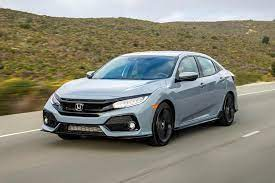Honda: (42, 50, 240, 146)
